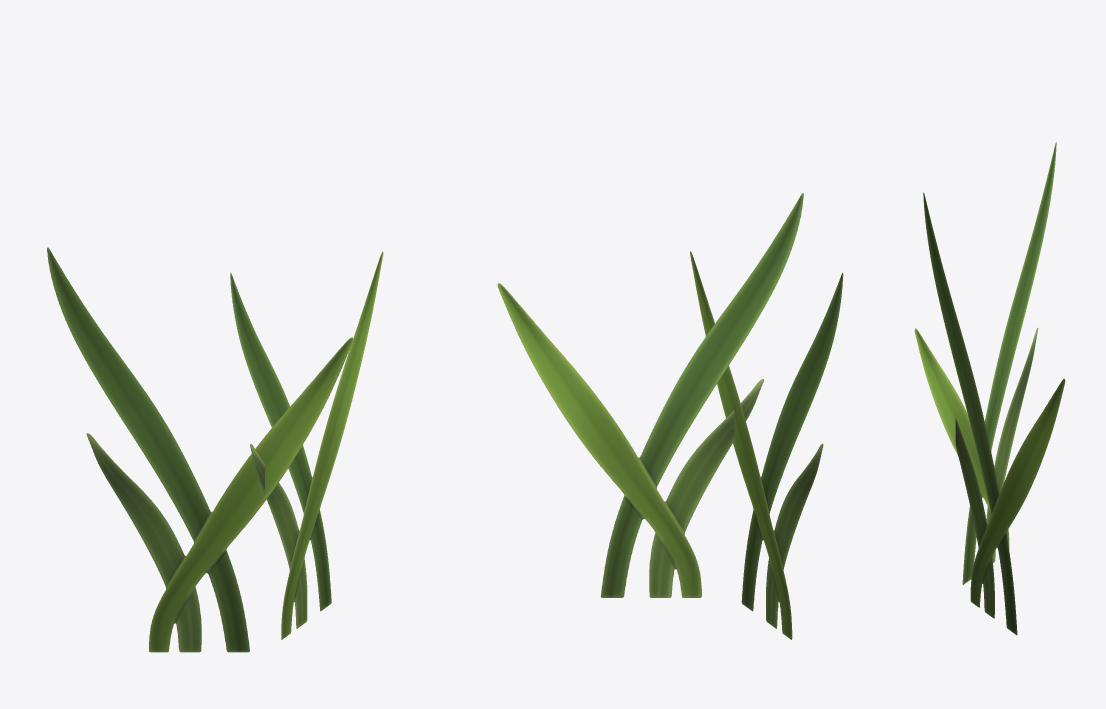
Rendered from Grass_shett6.fbx.
The picture shows the model from 3 angles, left to right: view 1: azimuth 30°, elevation 25°; view 2: azimuth 150°, elevation 25°; view 3: azimuth 270°, elevation 25°; orthographic projection. The views are drawn at different scales.
Visible parts, largest first — view 1: Grass_sheet6; view 2: Grass_sheet6; view 3: Grass_sheet6.
Boxes of the visible parts, <box> form: Grass_sheet6: <box>47,247,383,652</box>; Grass_sheet6: <box>497,193,843,639</box>; Grass_sheet6: <box>914,142,1065,635</box>.
Bounding box in the file's own units: 25.16 × 31.52 × 11.71.
